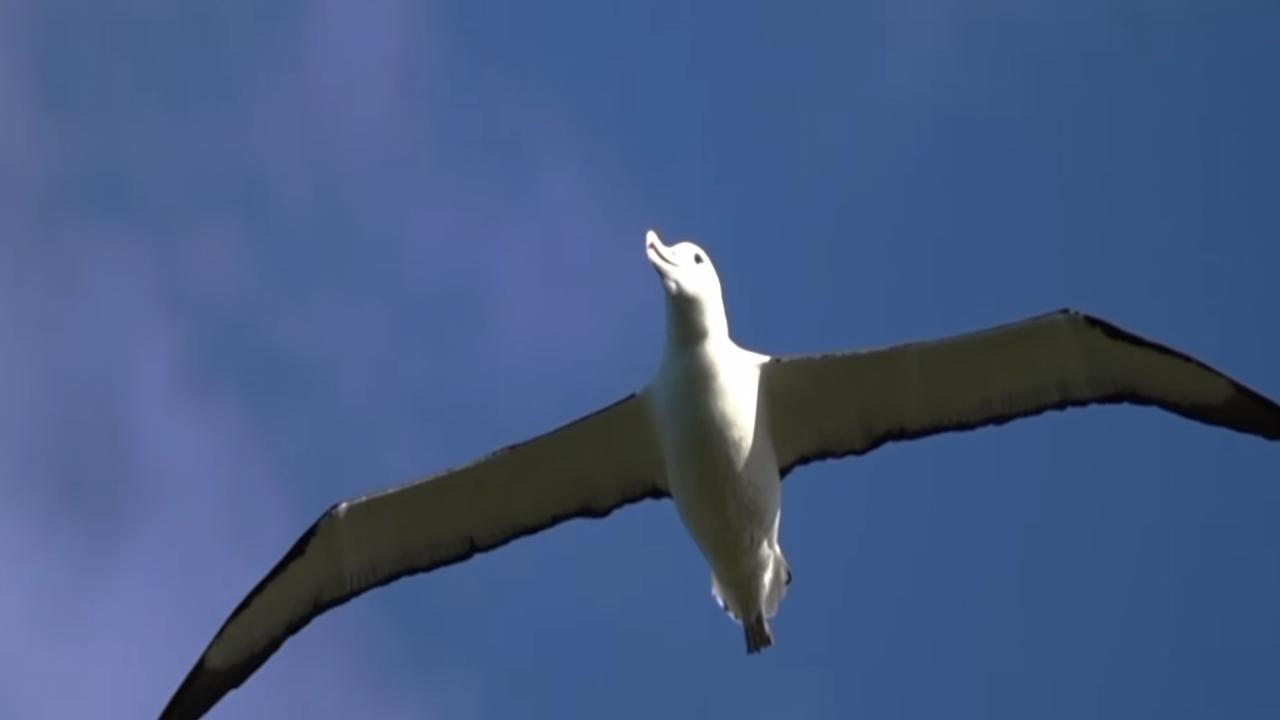Bird: (136, 193, 1279, 720)
